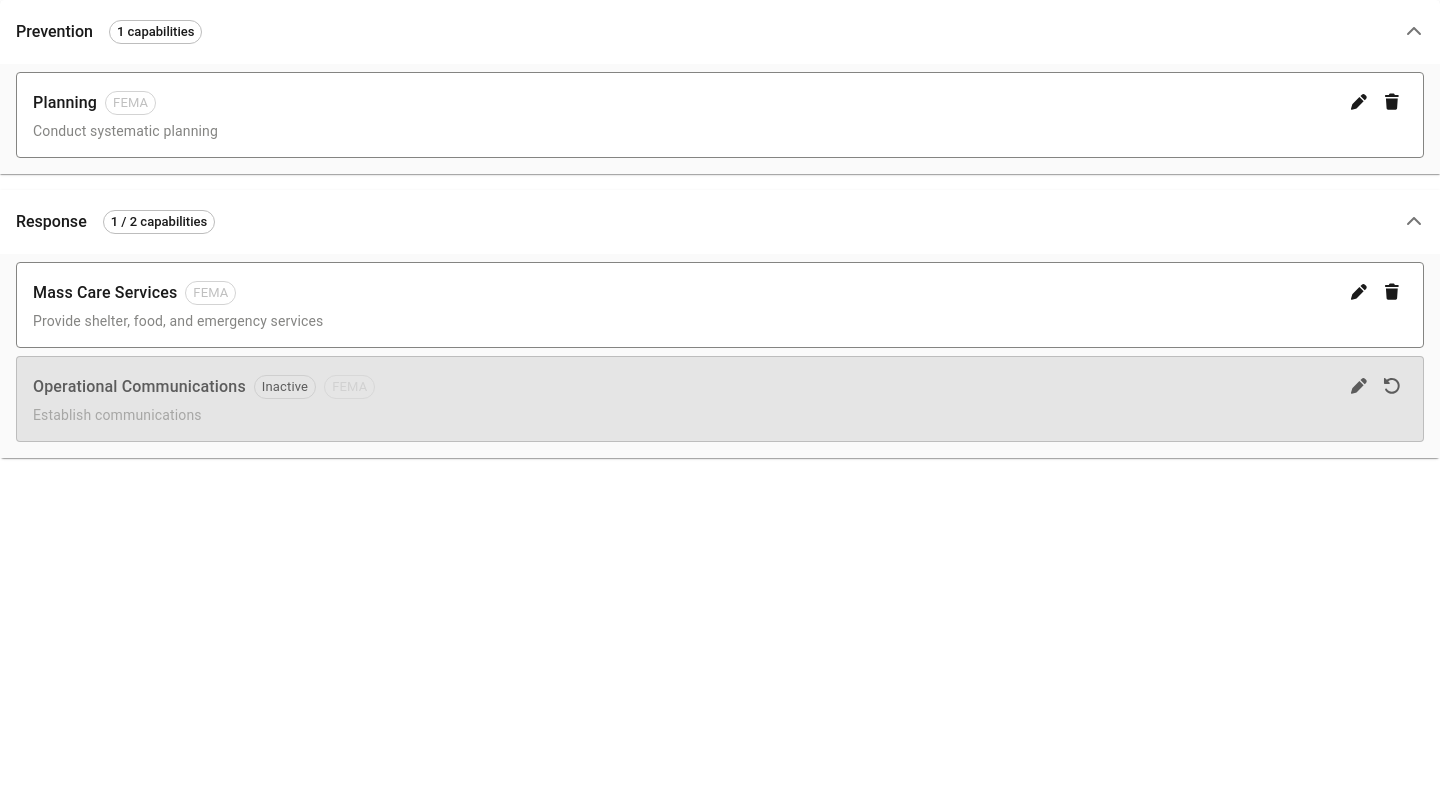
Scenario: CapabilityList › Deactivate action › shows confirmation dialog when deactivate clicked
Click the 1st button named "deactivate capability".
click(1392, 102)  # box top-left (1377, 89), bottom-right (1407, 115)
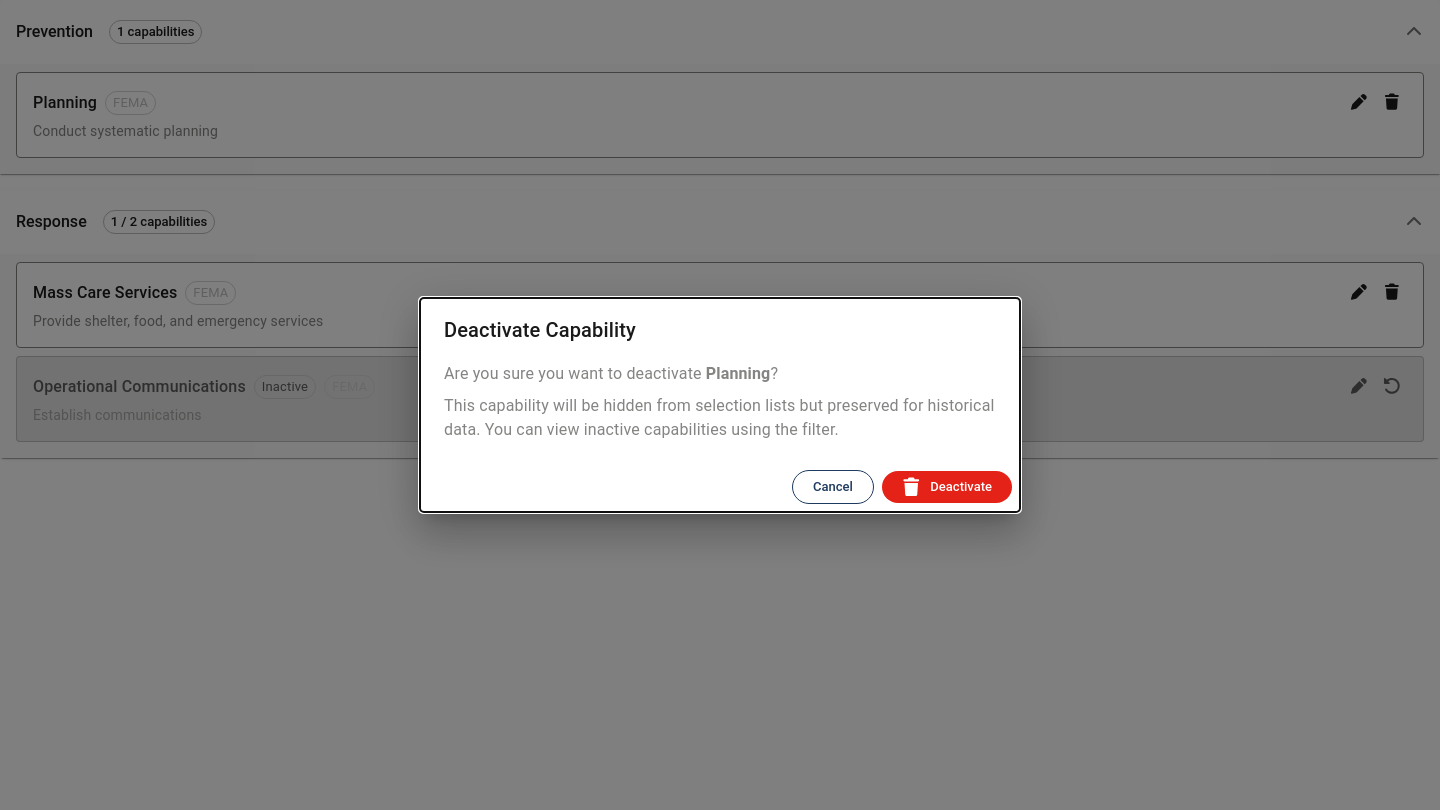
expect the text "Are you sure you want to deactivate Planning?" is shown: met, box top-left (444, 364), bottom-right (778, 383)
